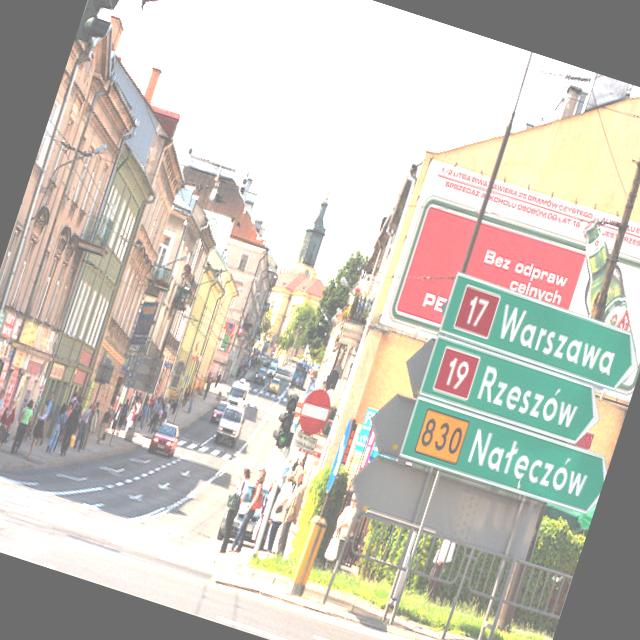Vehicle: (214, 404, 248, 449), (148, 420, 182, 460), (226, 378, 254, 410), (208, 400, 228, 426), (254, 367, 268, 386), (268, 376, 282, 394), (258, 352, 272, 368), (266, 361, 279, 376)
